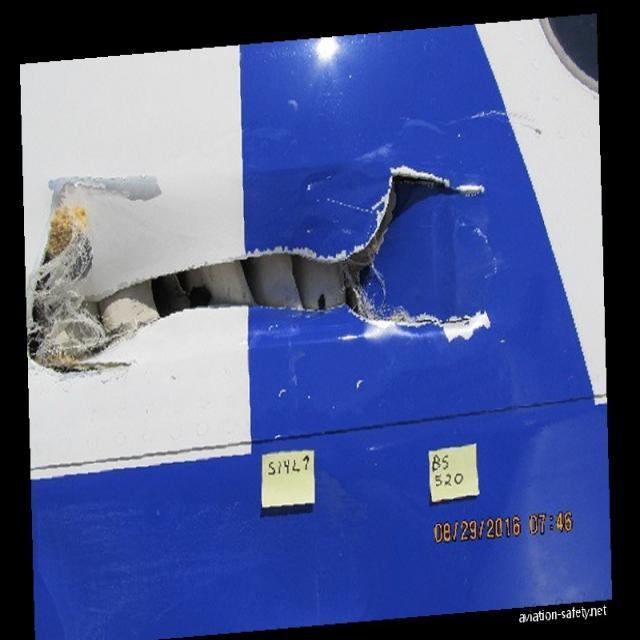crack: (390, 309, 488, 339)
